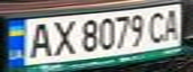0: (97, 15, 118, 51)
7: (115, 12, 133, 48)
8: (78, 16, 100, 53)
9: (127, 11, 151, 47)
A: (21, 20, 54, 60), (160, 7, 184, 42)
C: (145, 8, 169, 44)
X: (48, 17, 78, 56)
